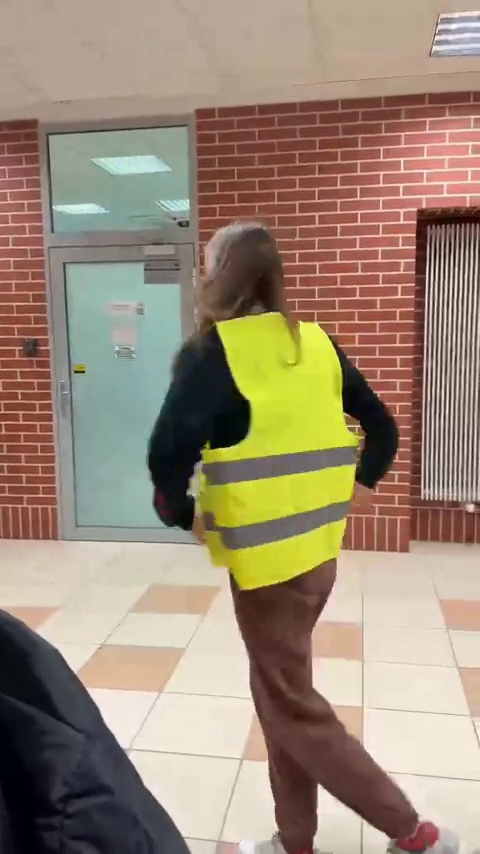vest: (159, 217, 437, 854)
